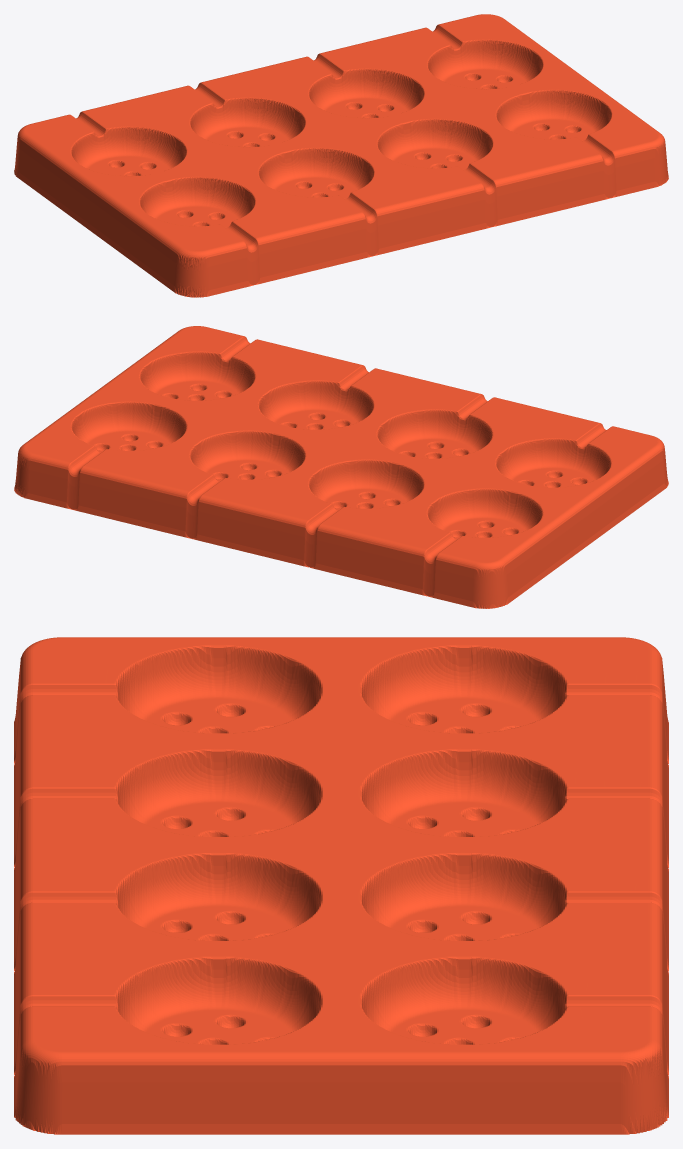
File: mold.glb
The picture shows the model from 3 angles, top to bottom: view 1: azimuth 30°, elevation 25°; view 2: azimuth 150°, elevation 25°; view 3: azimuth 270°, elevation 25°; orthographic projection. The views are drawn at different scales.
Parts seen in each view (by area): view 1: geometry_0; view 2: geometry_0; view 3: geometry_0.
Part boxes in pixels (<box>): geometry_0: <box>14,14,668,297</box>; geometry_0: <box>14,326,668,608</box>; geometry_0: <box>14,637,668,1134</box>.
Size of the model in its own units: 0.1907 by 0.0155 by 0.1229.
